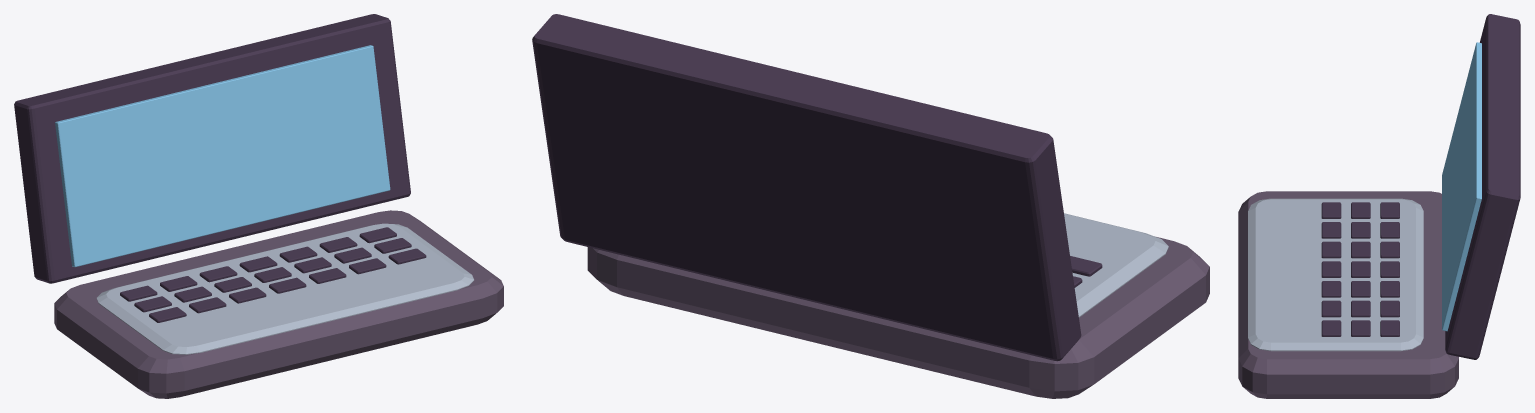
The model's file is laptop.glb.
The picture shows the model from 3 angles, left to right: view 1: azimuth 30°, elevation 25°; view 2: azimuth 150°, elevation 25°; view 3: azimuth 270°, elevation 25°; orthographic projection. The views are drawn at different scales.
Parts seen in each view (by area): view 1: model, display; view 2: model; view 3: model, display.
Part boxes in pixels (x1=…): model: x1=14, y1=14, x2=503, y2=398; display: x1=55, y1=45, x2=390, y2=267; model: x1=532, y1=14, x2=1209, y2=398; model: x1=1238, y1=14, x2=1520, y2=398; display: x1=1442, y1=42, x2=1481, y2=331.
Size of the model in its own units: 0.72 by 0.4 by 0.48.
